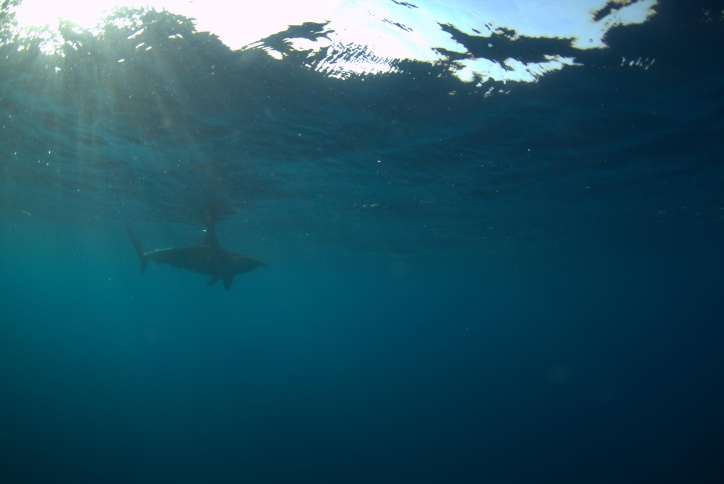Hammer: (119, 220, 277, 300)
